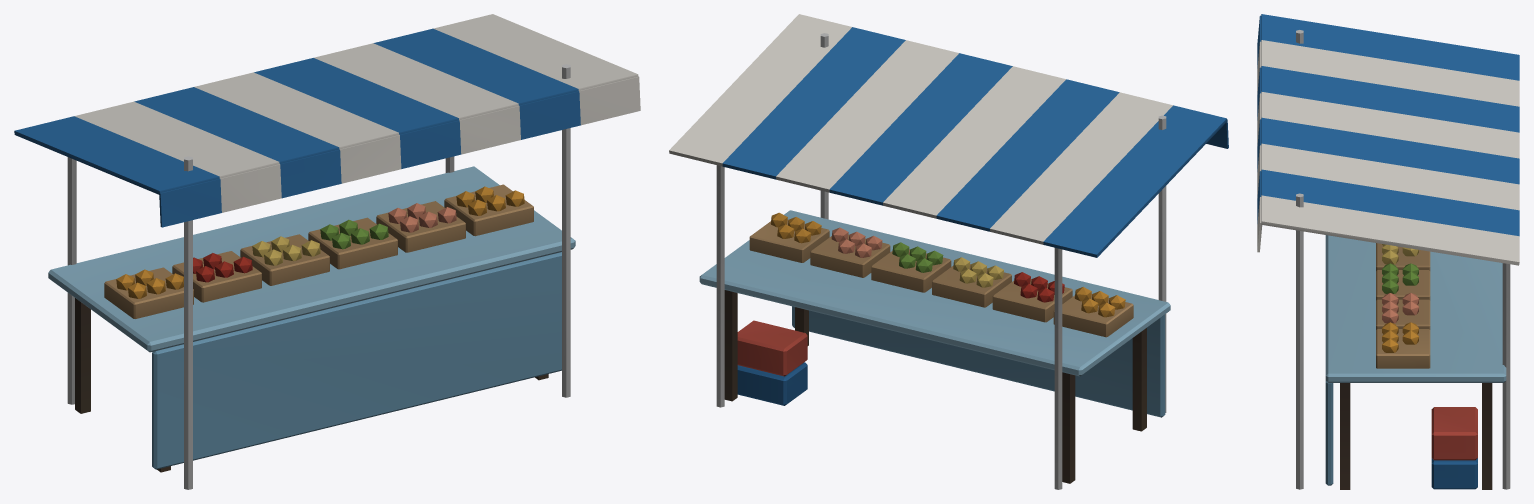
Rendered from mi_stall-Br6leVyv.glb.
3 renders of one model, left to right at view 1: azimuth 30°, elevation 25°; view 2: azimuth 150°, elevation 25°; view 3: azimuth 270°, elevation 25°, orthographic. The views are drawn at different scales.
Size of the model in its own units: 3.8 by 2.5 by 2.03.
